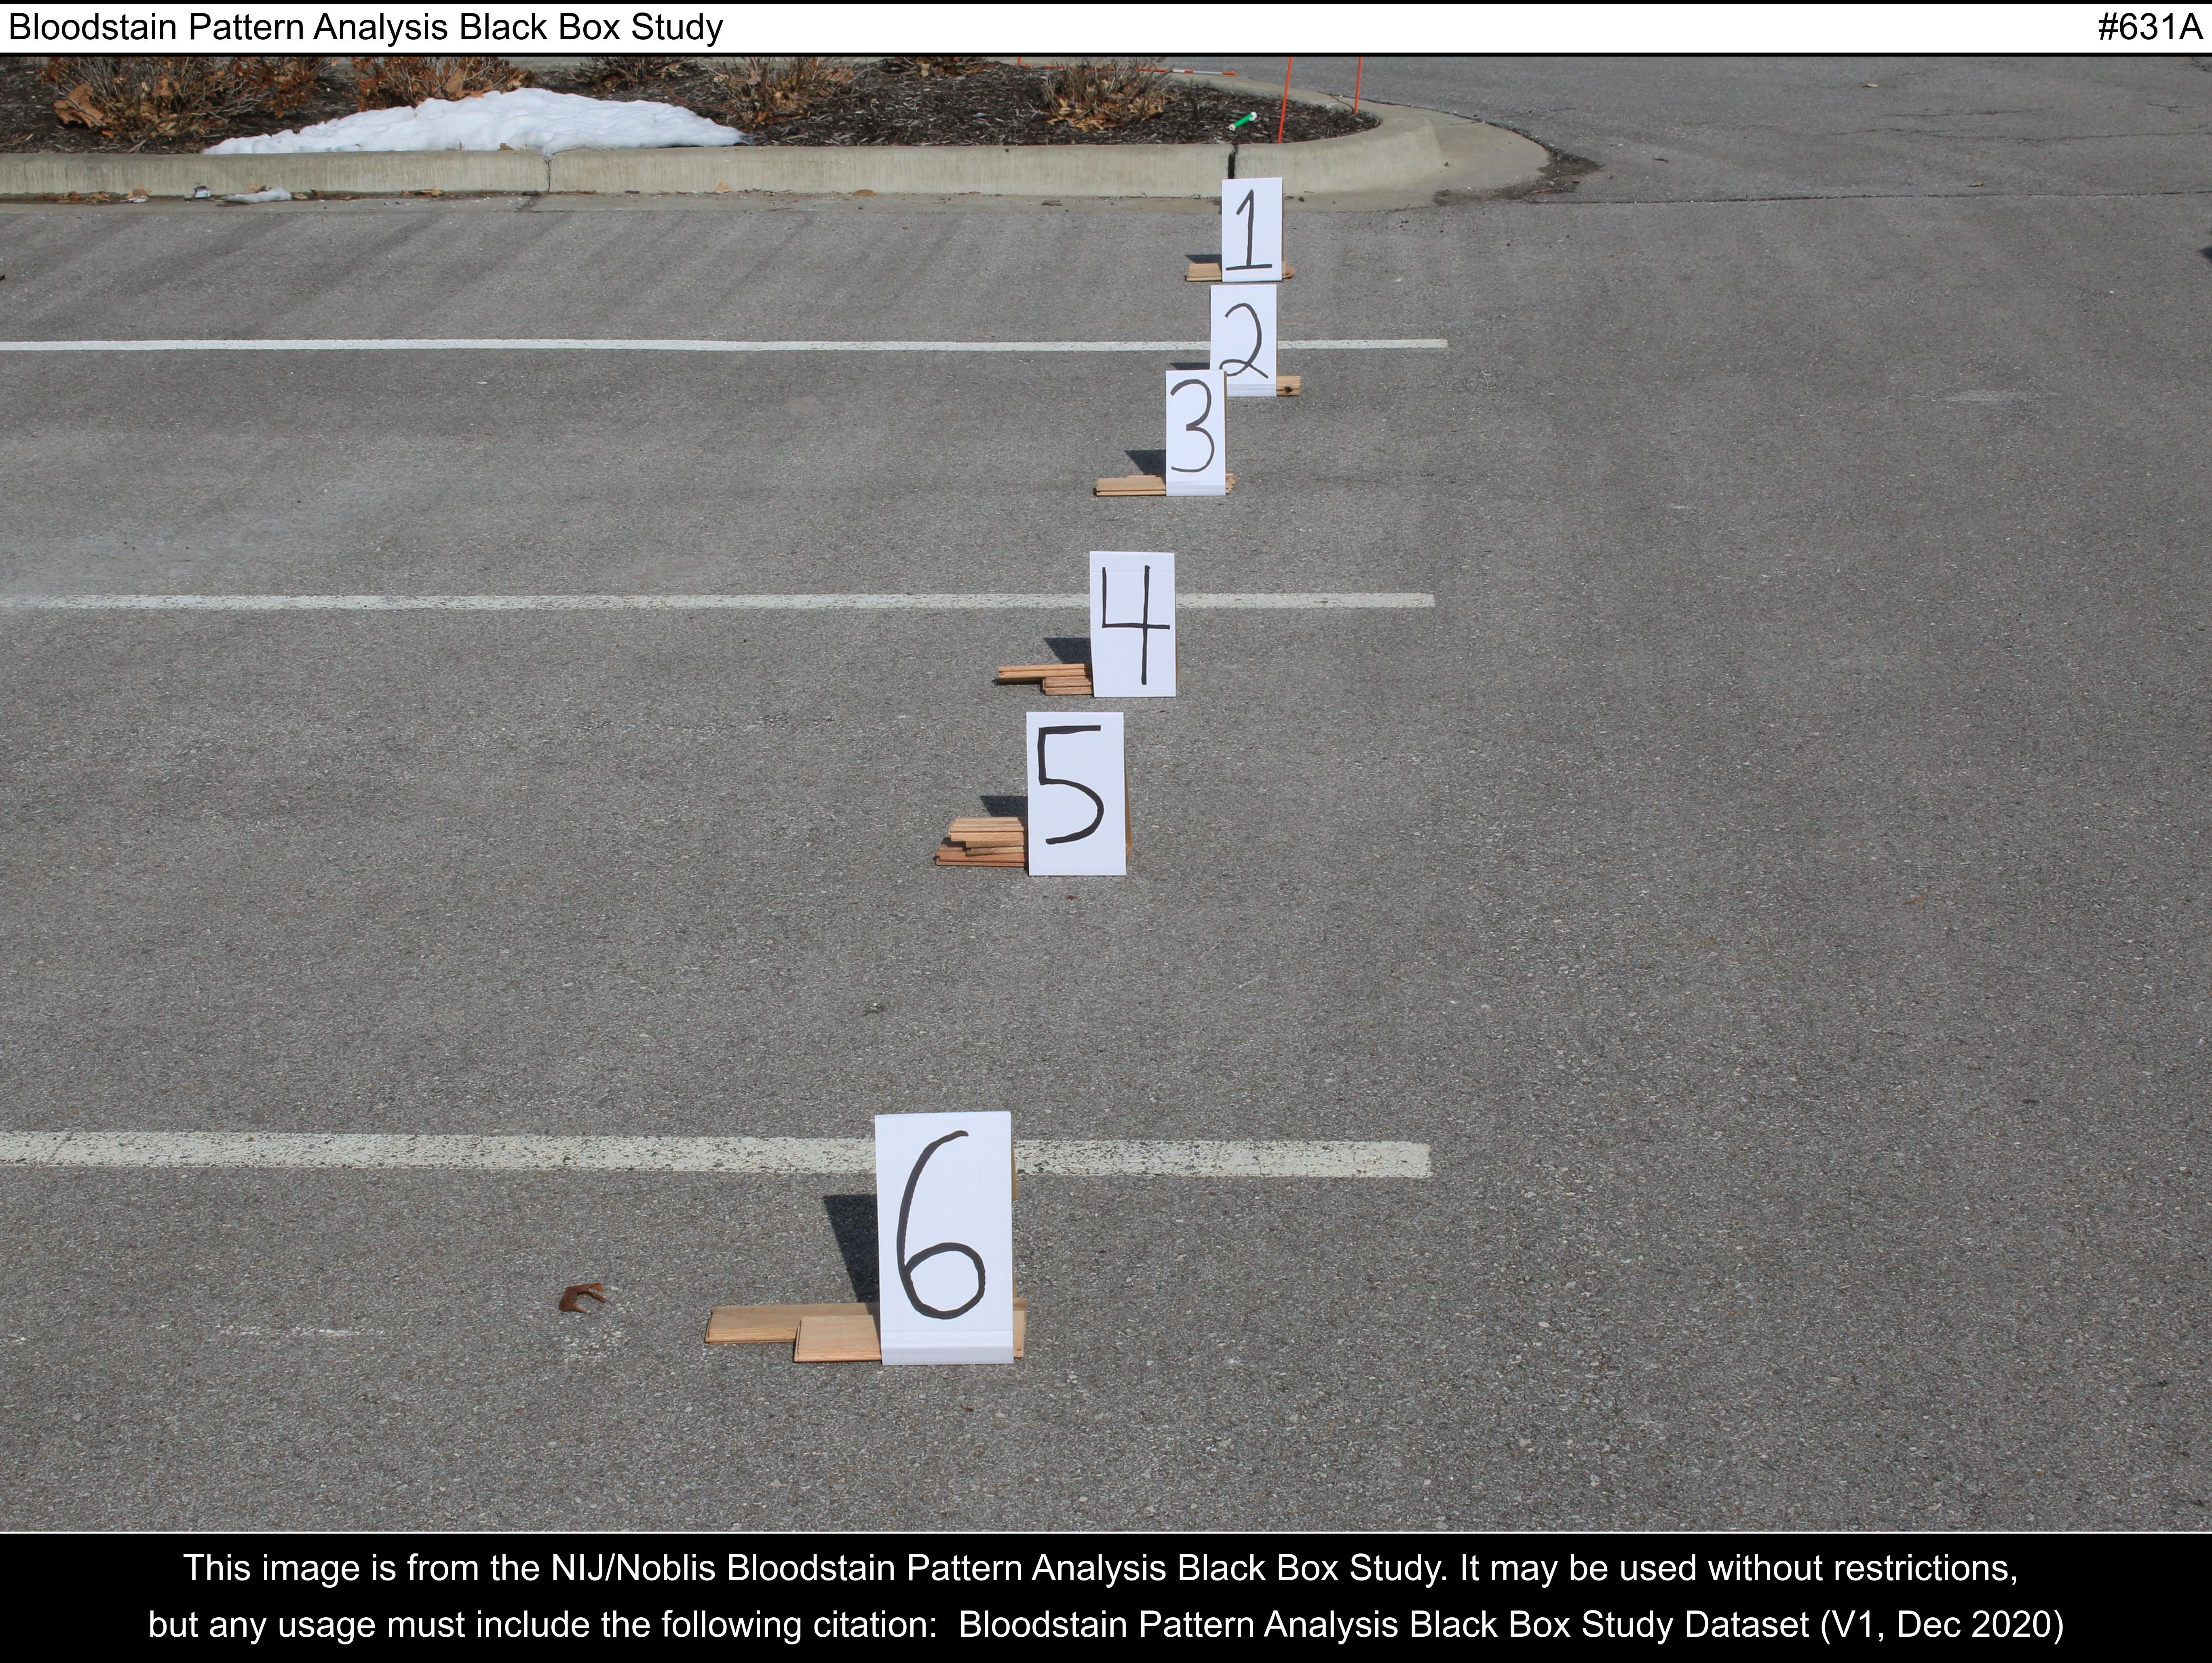Passive: (1025, 882, 1124, 933)
